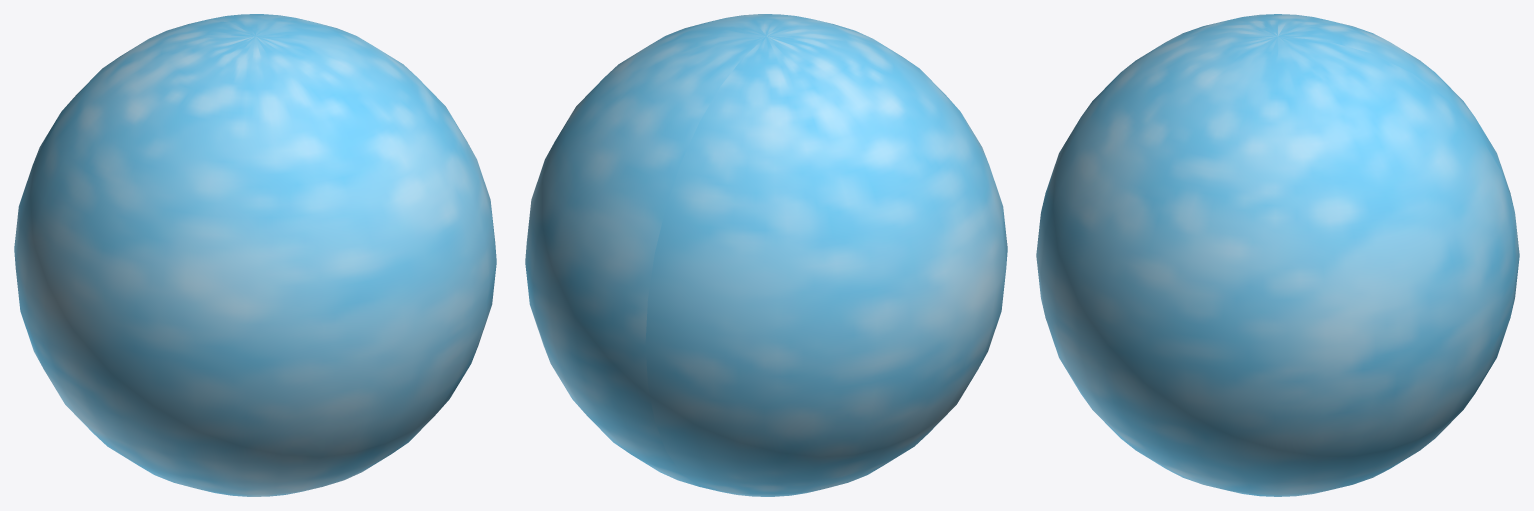
Rendered from oxigeno.FBX.
3 renders of one model, left to right at view 1: azimuth 30°, elevation 25°; view 2: azimuth 150°, elevation 25°; view 3: azimuth 270°, elevation 25°, orthographic.
Visible parts, largest first — view 1: o2; view 2: o2; view 3: o2.
Part boxes in pixels (x1,y1,x2,y2): o2: (14,14,496,496); o2: (525,14,1007,496); o2: (1036,14,1519,496).
Size of the model in its own units: 52.65 by 52.65 by 52.65.
